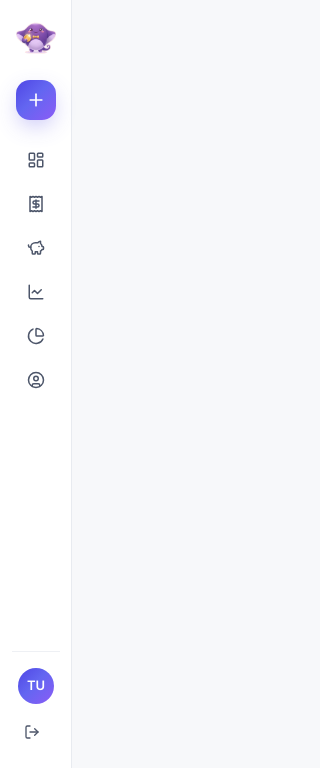
Scenario: Sidebar collapse › reopens from the mascot button
Click the button named "Open sidebar" at (36, 38), box top-left (14, 16), bottom-right (58, 60)
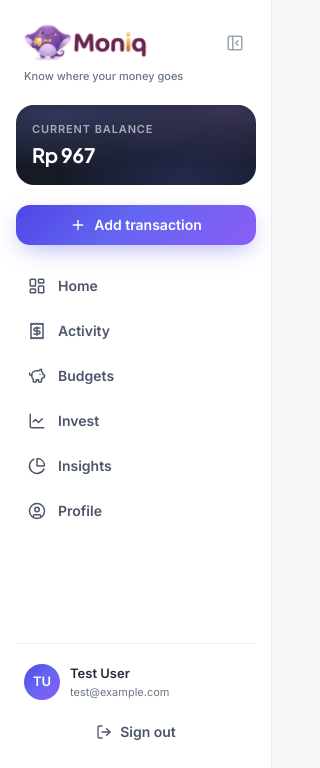
Check: the picture named "Moniq" is shown, box top-left (20, 20), bottom-right (152, 64)
Check: the button named "Close sidebar" is shown, box top-left (218, 26), bottom-right (252, 60)
